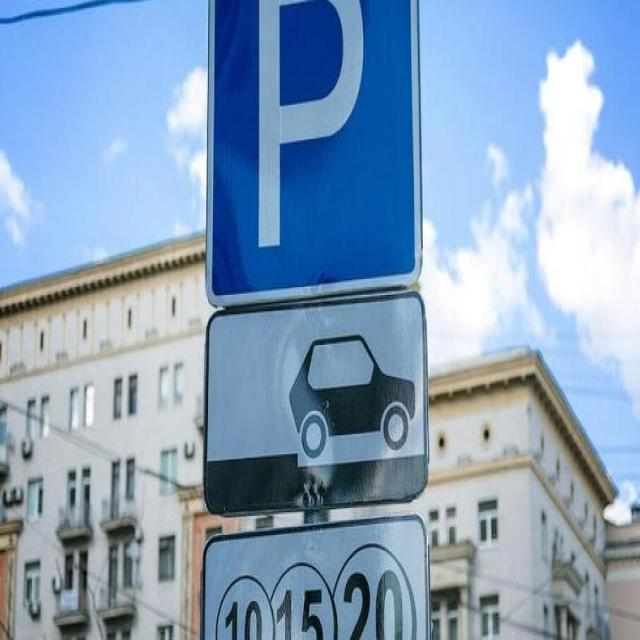parking: (204, 0, 427, 291)
